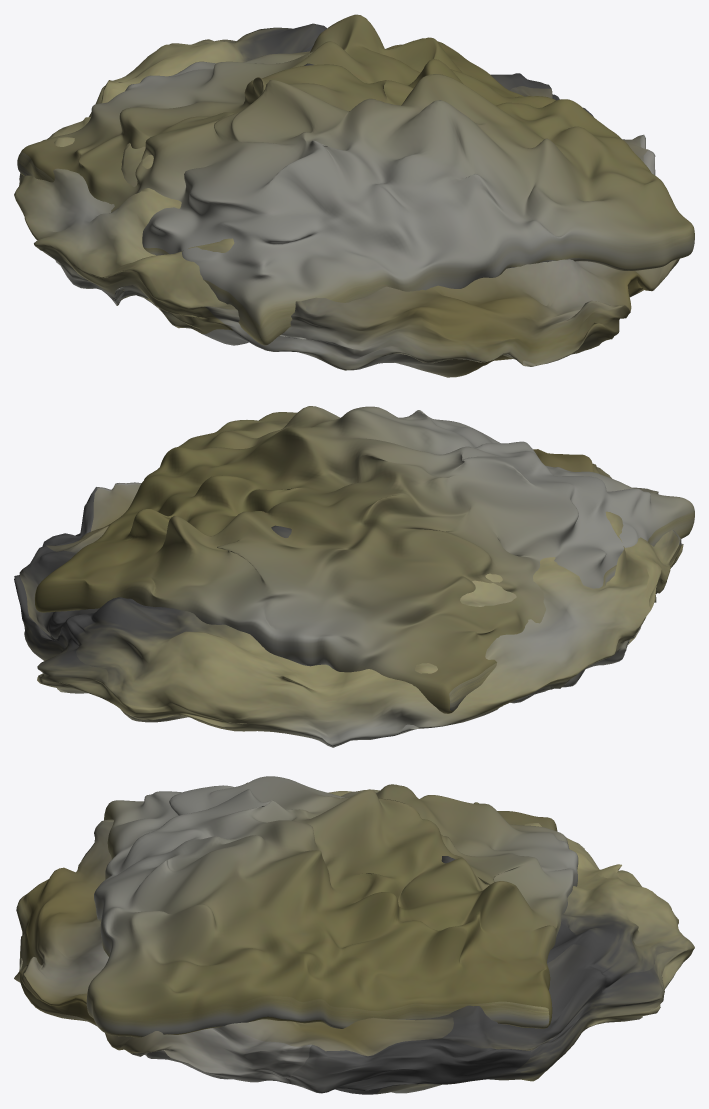
File: RockBaseColor_v2.fbx
3 views of the same model, one above another, from view 1: azimuth 30°, elevation 25°; view 2: azimuth 150°, elevation 25°; view 3: azimuth 270°, elevation 25° (orthographic). The views are drawn at different scales.
Visible parts, largest first — view 1: pSolid2; view 2: pSolid2; view 3: pSolid2.
Part boxes in pixels (x1,y1,x2,y2): pSolid2: [14, 14, 694, 377]; pSolid2: [14, 406, 694, 747]; pSolid2: [14, 776, 694, 1094].
Size of the model in its own units: 0.9666 by 0.3483 by 1.09.
